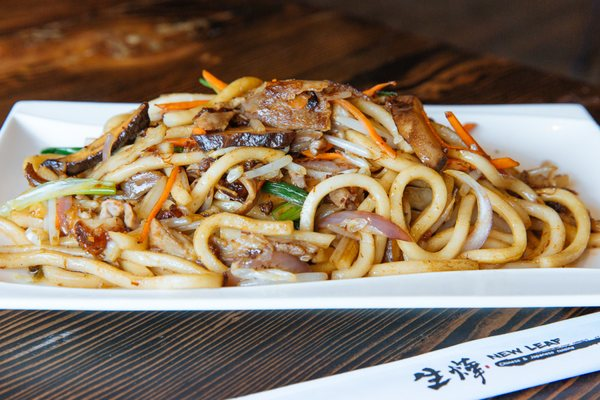curry: (1, 2, 600, 389)
